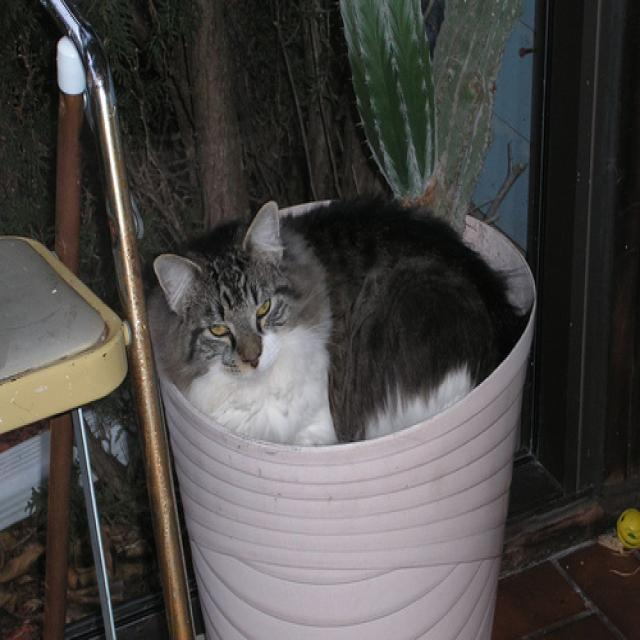cat: (152, 197, 512, 448)
